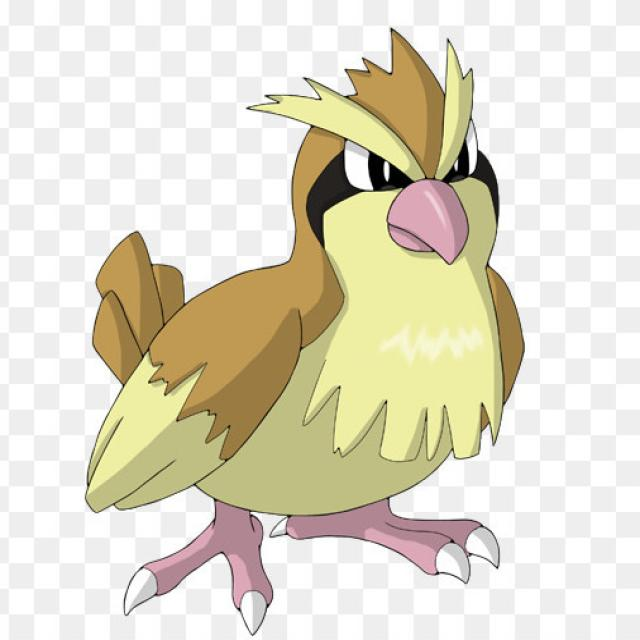Pidgey: (102, 58, 525, 592)
